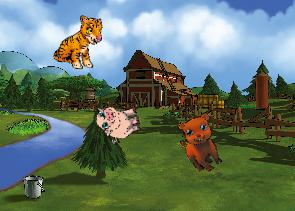bear: (170, 107, 235, 177)
pig: (93, 97, 144, 145)
tiger: (52, 12, 105, 72)
